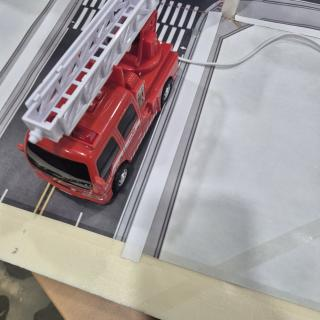Fire_truck: (17, 0, 178, 203)
